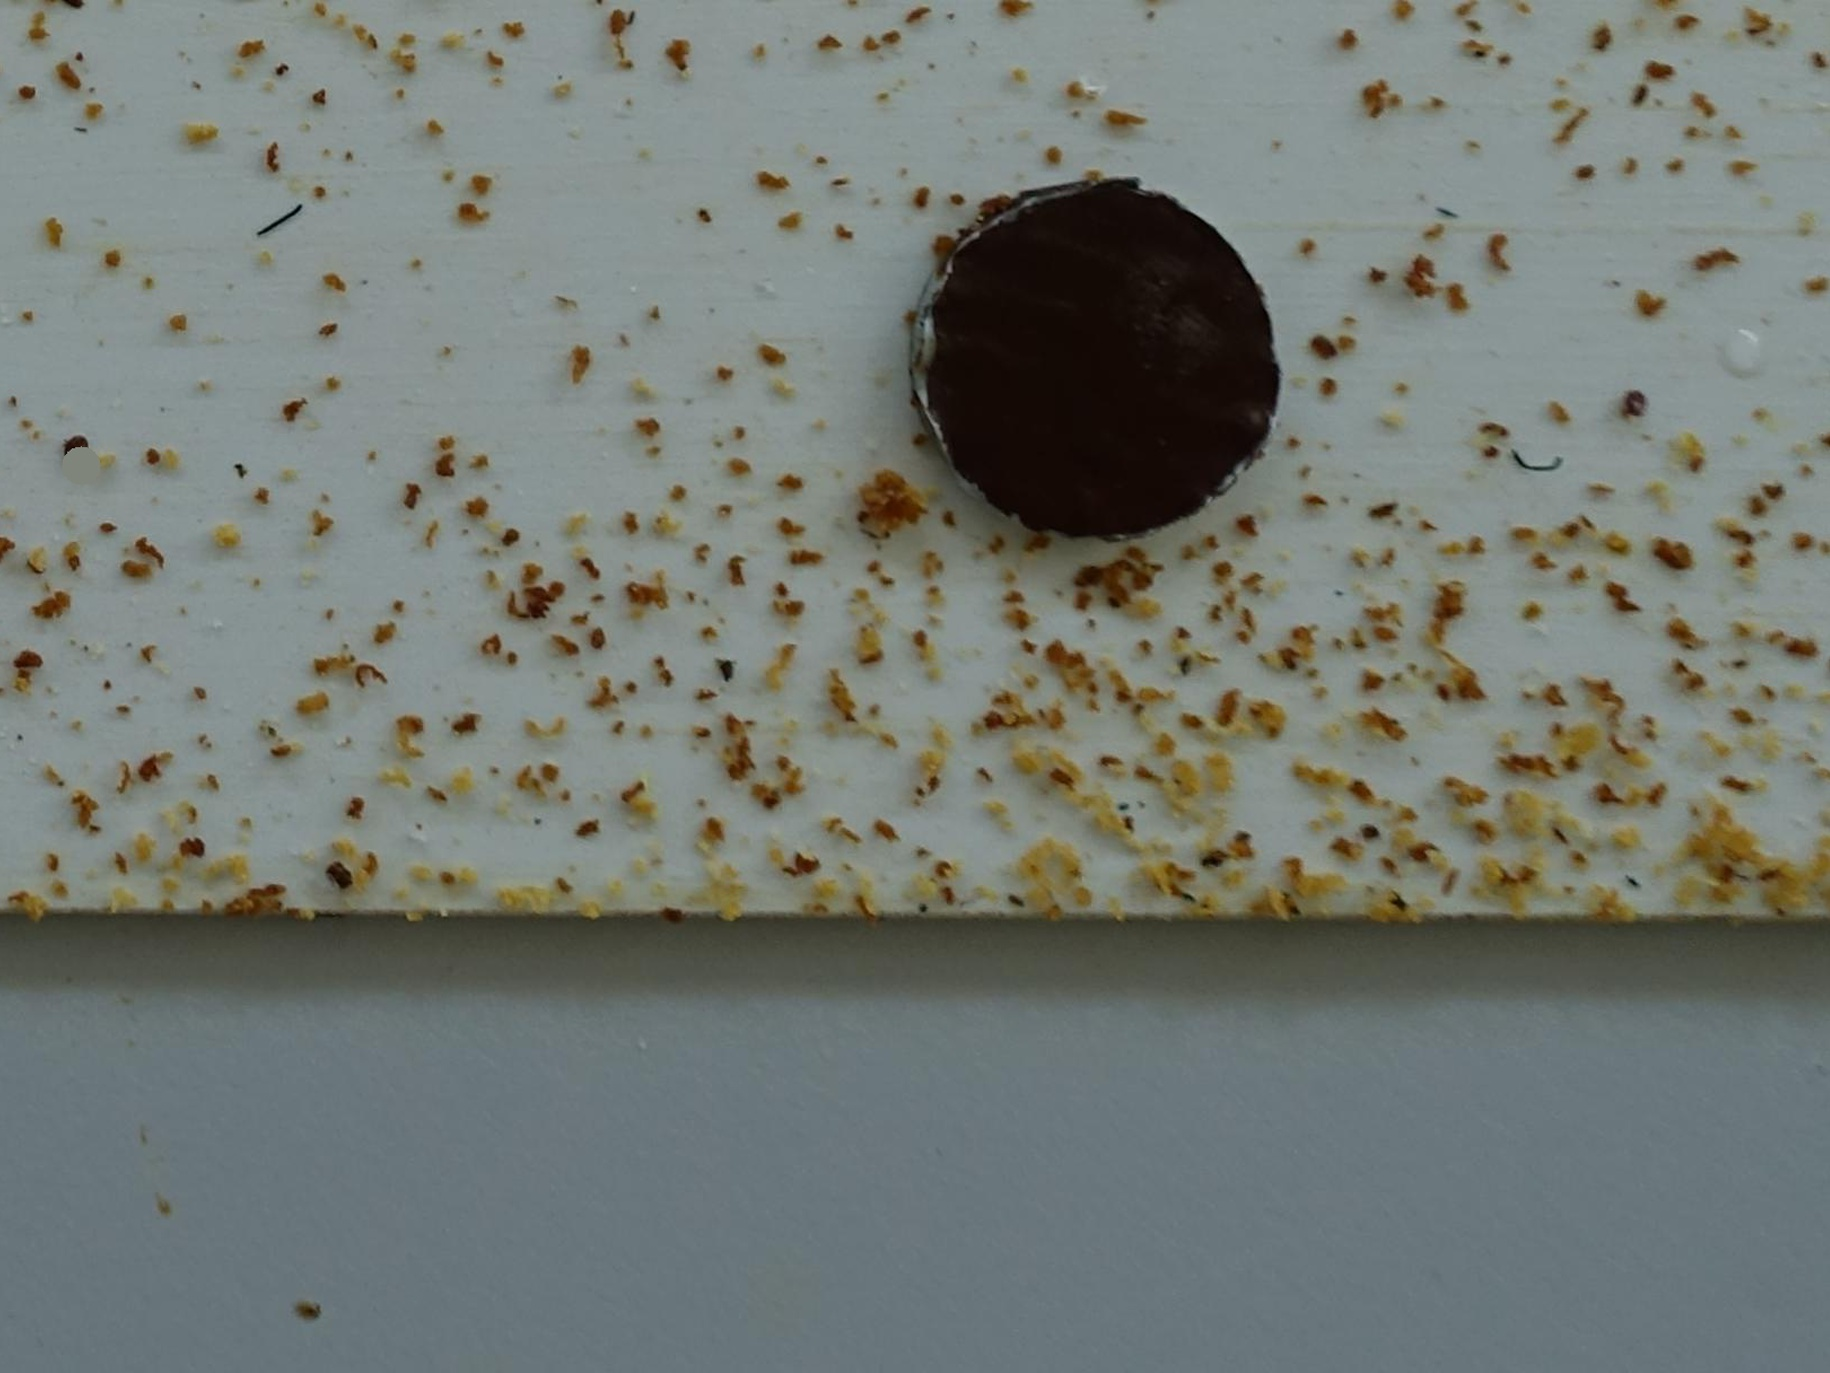Varroa: (61, 433, 84, 459)
